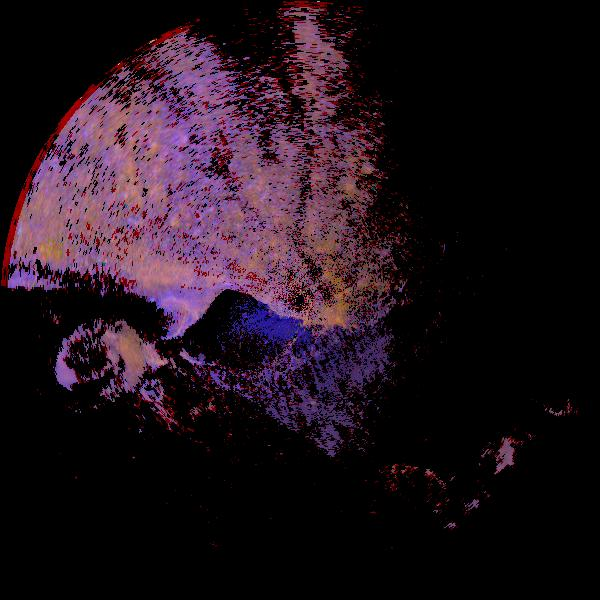roost: (30, 287, 174, 431)
